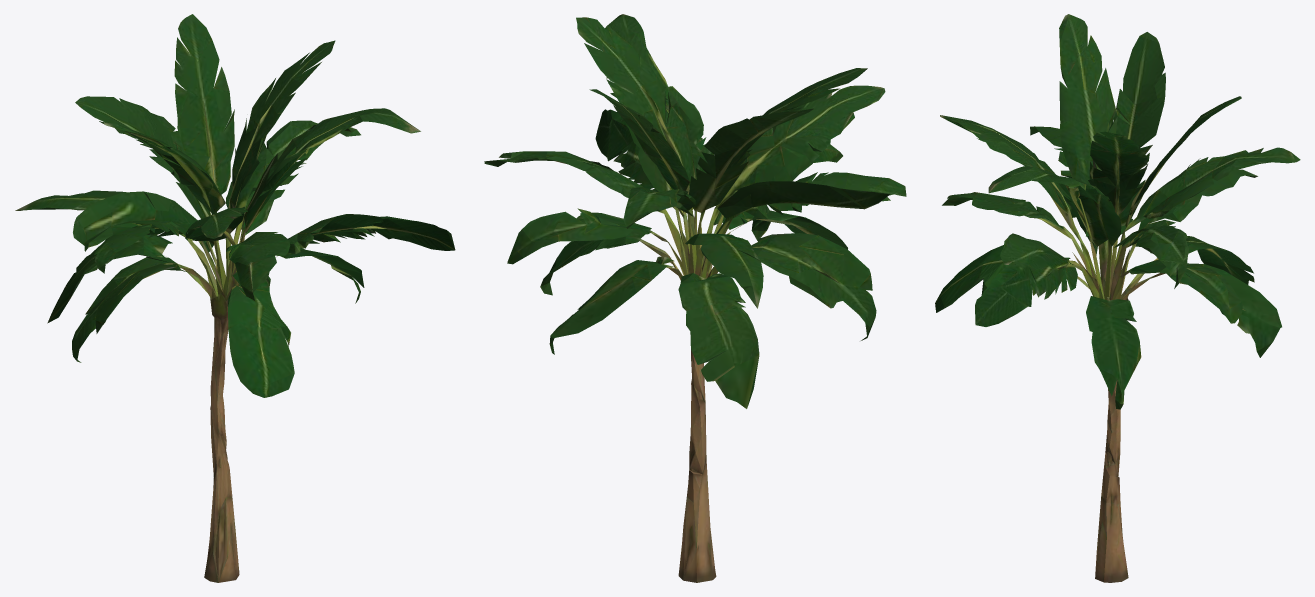
File: jungle_palm.glb
3 renders of one model, left to right at view 1: azimuth 30°, elevation 25°; view 2: azimuth 150°, elevation 25°; view 3: azimuth 270°, elevation 25°, orthographic. The views are drawn at different scales.
Size of the model in its own units: 1.32 by 1.9 by 1.26.
Materials: 1 (1 with a texture image).
